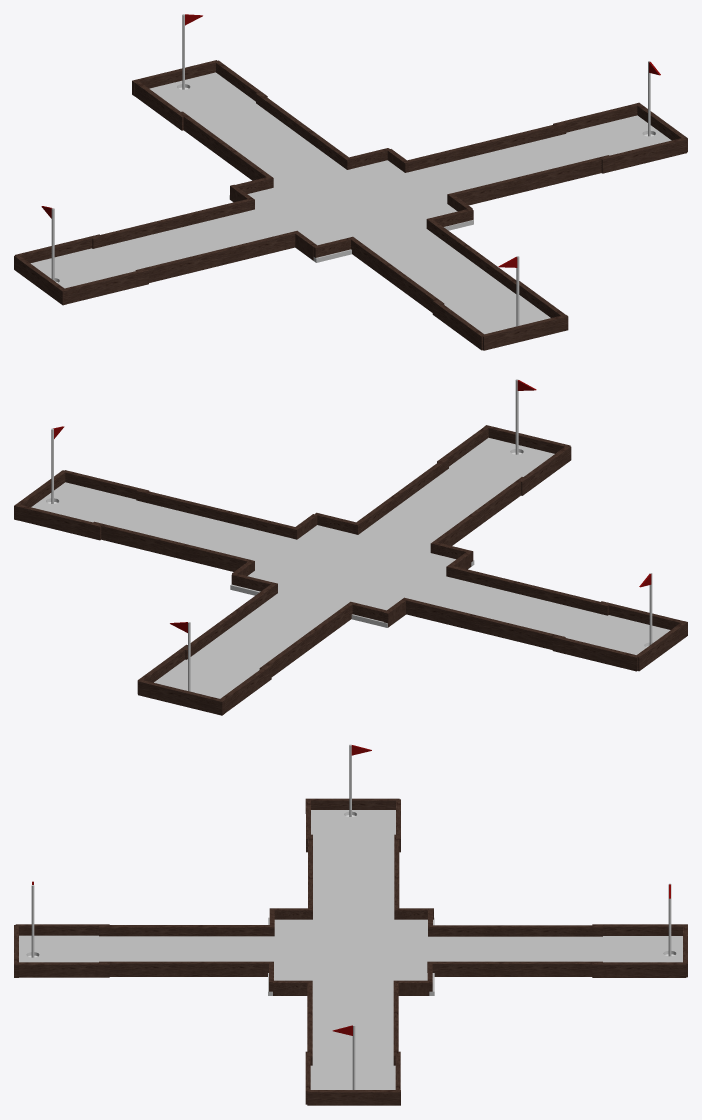
File: Hole7.fbx
3 views of the same model, one above another, from view 1: azimuth 30°, elevation 25°; view 2: azimuth 150°, elevation 25°; view 3: azimuth 270°, elevation 25° (orthographic). The views are drawn at different scales.
Parts seen in each view (by area): view 1: pCube133; view 2: pCube133; view 3: pCube133.
Part boxes in pixels (x1=…): pCube133: x1=14, y1=14, x2=687, y2=350; pCube133: x1=14, y1=379, x2=687, y2=715; pCube133: x1=14, y1=744, x2=687, y2=1105.
Size of the model in its own units: 60.9 by 7.12 by 59.09.
